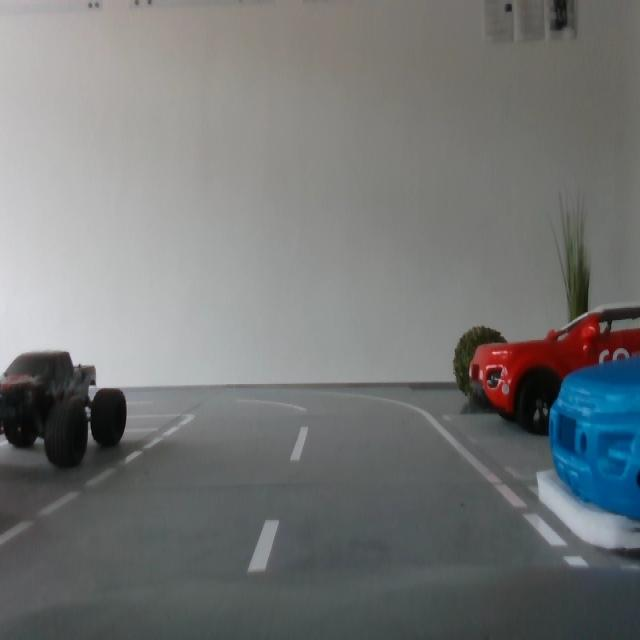car: (469, 304, 640, 436), (535, 352, 640, 556), (1, 349, 127, 469)
potted plant: (549, 194, 593, 379), (453, 324, 509, 402)
